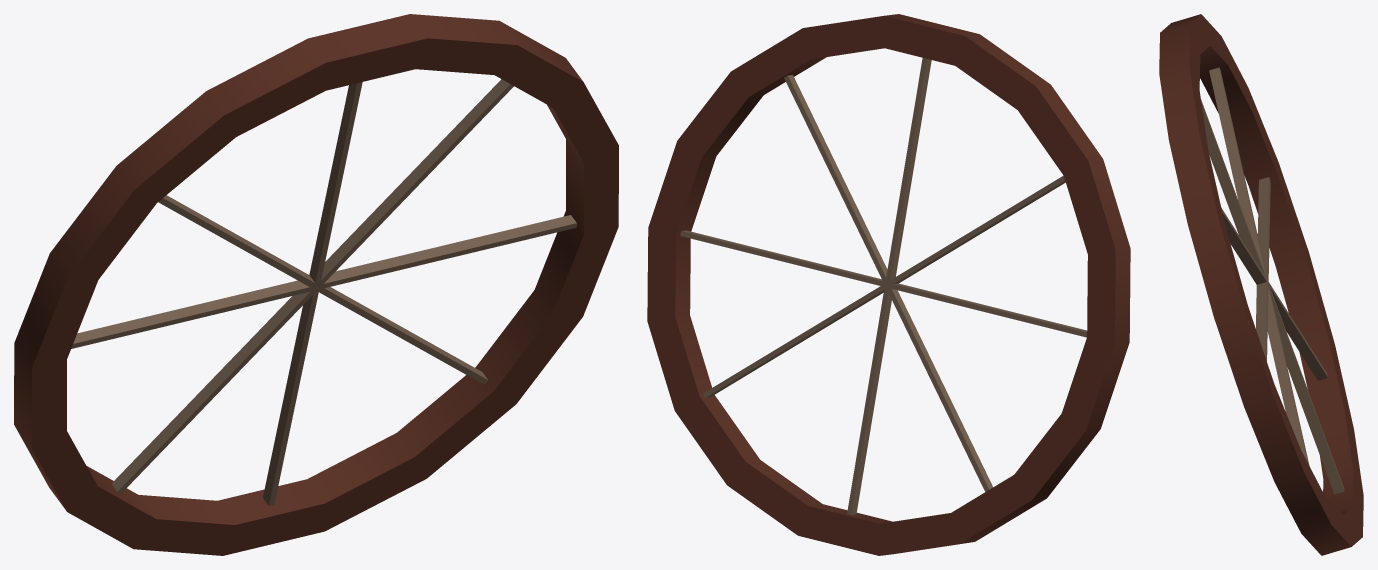
The model's file is Wheel.fbx.
3 renders of one model, left to right at view 1: azimuth 30°, elevation 25°; view 2: azimuth 150°, elevation 25°; view 3: azimuth 270°, elevation 25°, orthographic. The views are drawn at different scales.
Visible parts, largest first — view 1: Wheel_LOD0; view 2: Wheel_LOD0; view 3: Wheel_LOD0.
Part boxes in pixels (x1,y1,x2,y2): Wheel_LOD0: (14,14,618,555); Wheel_LOD0: (647,14,1130,555); Wheel_LOD0: (1159,14,1363,555).
Size of the model in its own units: 7536 by 7173 by 2766.
